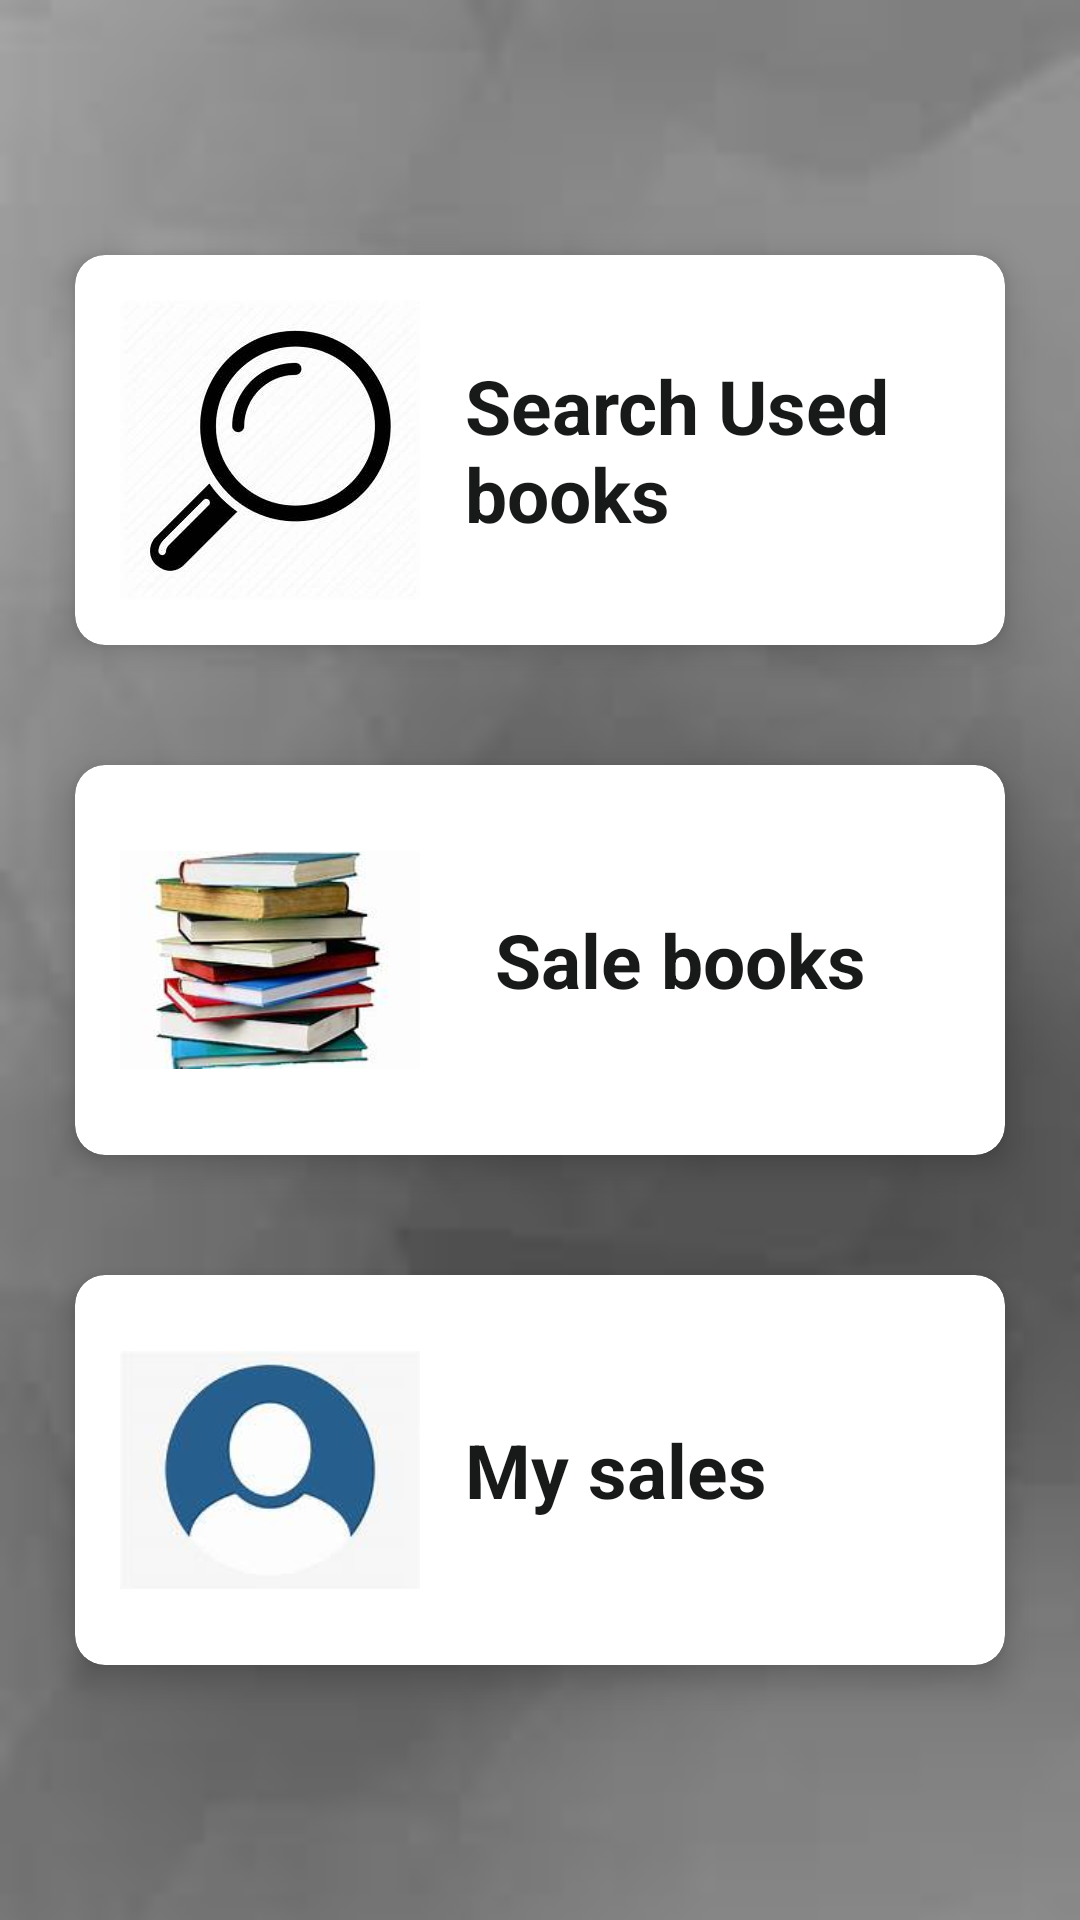

Where to tap for icons on this 1080×1920 app screen, as (x,y):
saleubook: (267,960)
searchbuk: (270,450)
